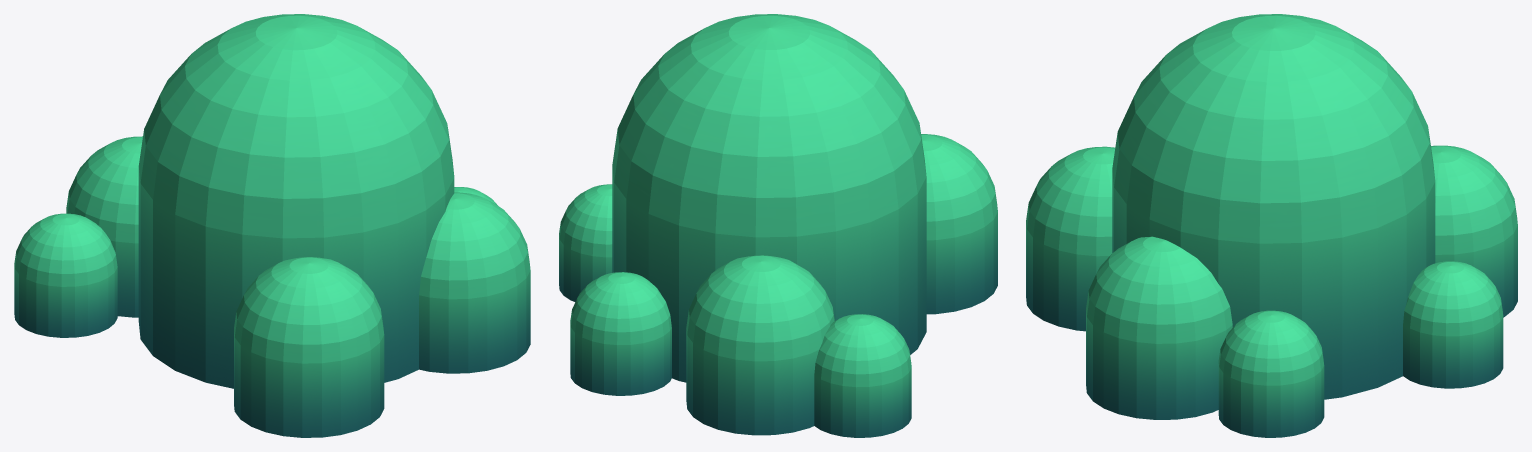
The model's file is cactus2.fbx.
3 views of the same model, side by side, from view 1: azimuth 30°, elevation 25°; view 2: azimuth 150°, elevation 25°; view 3: azimuth 270°, elevation 25° (orthographic). The views are drawn at different scales.
Visible parts, largest first — view 1: cactus2; view 2: cactus2; view 3: cactus2.
Part boxes in pixels (x1=…): cactus2: x1=14, y1=14, x2=530, y2=437; cactus2: x1=559, y1=14, x2=997, y2=437; cactus2: x1=1026, y1=14, x2=1517, y2=437.
Bounding box in the file's own units: 61.17 × 42.6 × 61.91.
